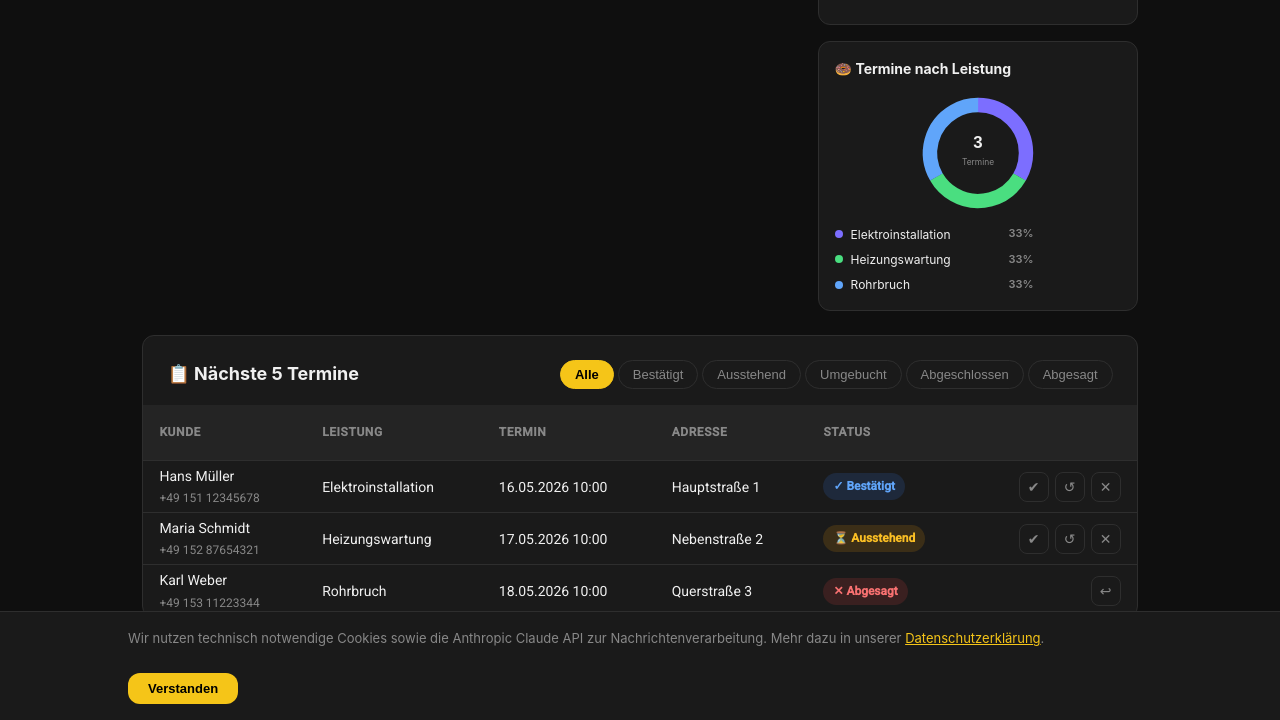
Test: Dashboard – Statistiken und Filter › filtert auf ausstehende Termine
(page scrolled)
Click the button with test id "filter-pending" at (752, 375), box [702,360,801,389]
(page scrolled)
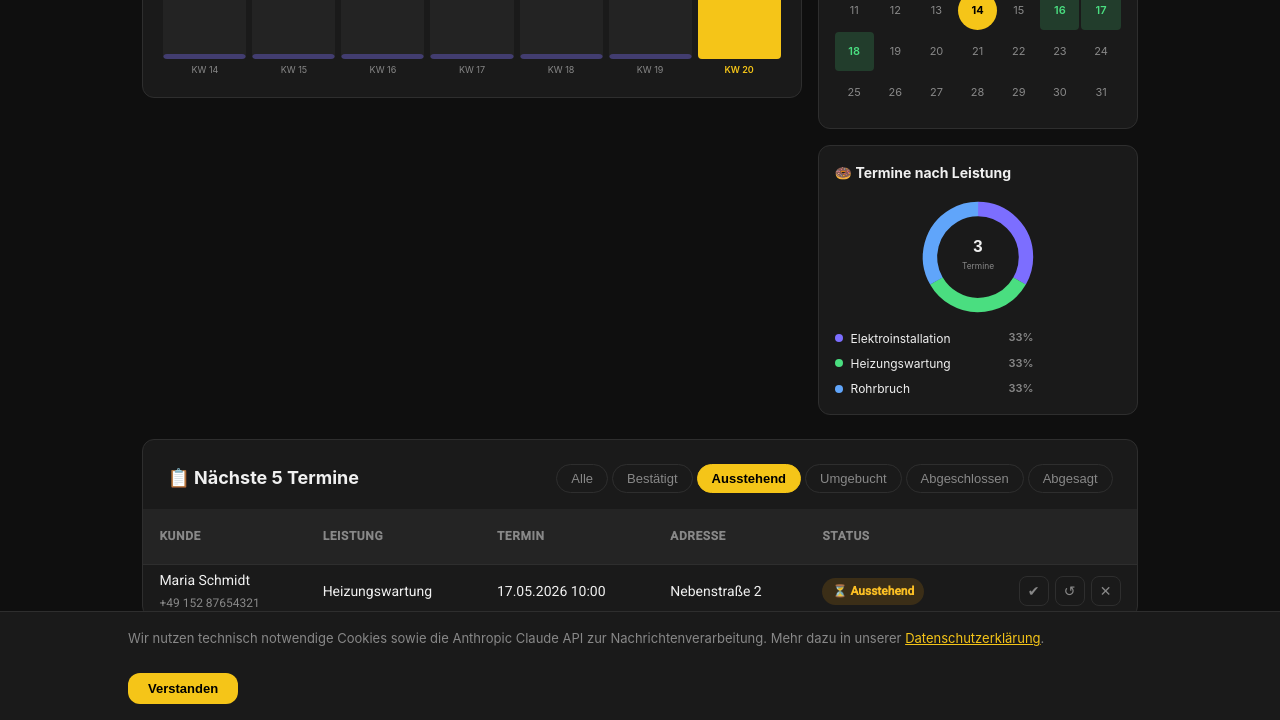
Expected: the element with test id "appointments-table" shows "Maria Schmidt", [143,509,1136,617]
Expected: the text with test id "appointments-table" no longer shows "Hans Müller"
